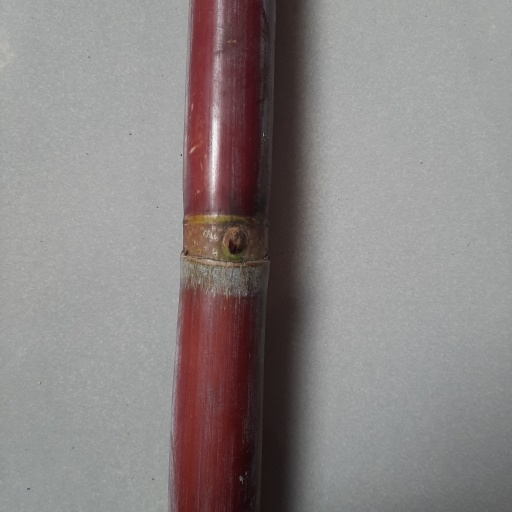Bud: (224, 229, 248, 256)
